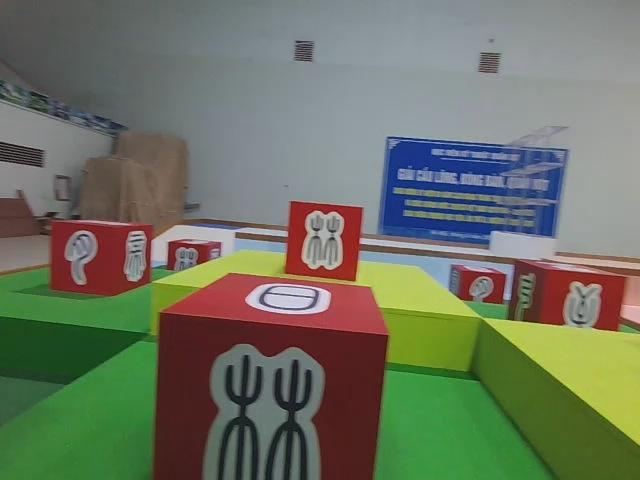R2 Fake: (154, 272, 393, 480), (505, 253, 628, 347), (50, 217, 153, 304), (283, 197, 362, 284), (443, 264, 503, 315), (164, 236, 223, 283)
